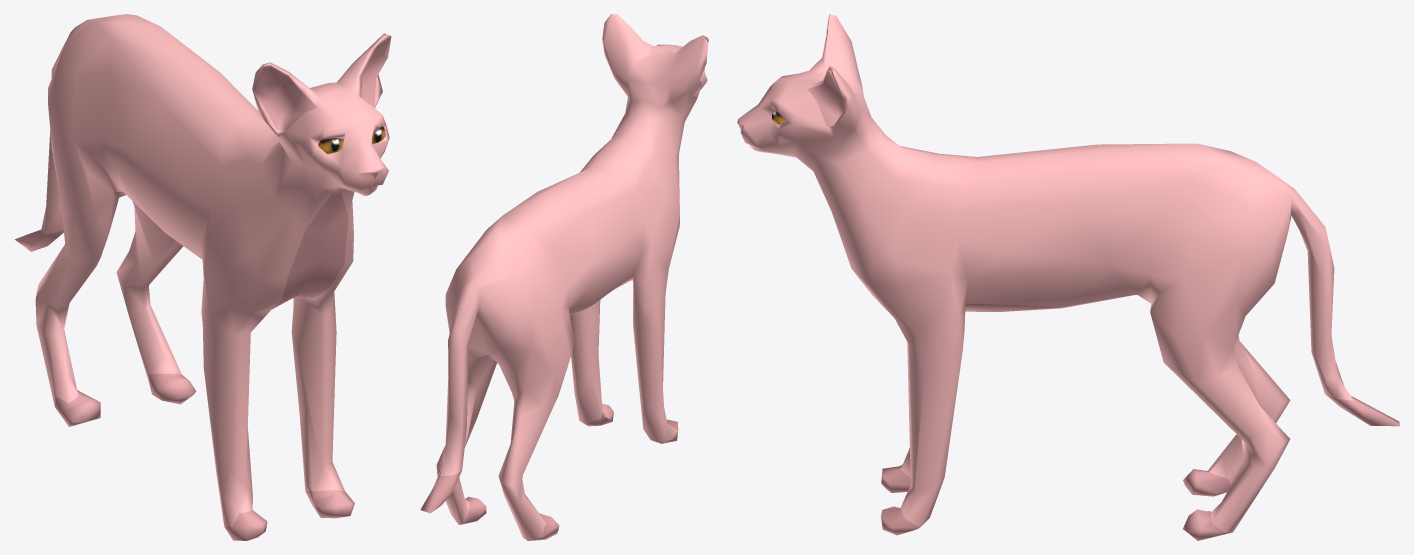
File: Sphynx.glb
3 renders of one model, left to right at view 1: azimuth 30°, elevation 25°; view 2: azimuth 150°, elevation 25°; view 3: azimuth 270°, elevation 25°, orthographic. The views are drawn at different scales.
Visible parts, largest first — view 1: Sphynx; view 2: Sphynx; view 3: Sphynx.
Part boxes in pixels (x1=…): Sphynx: x1=15, y1=14, x2=391, y2=540; Sphynx: x1=420, y1=14, x2=708, y2=540; Sphynx: x1=737, y1=14, x2=1399, y2=540.
Size of what is drawn, in the model's own units: 0.2113 by 0.7482 by 0.9468.
1 material, 1 textured.
